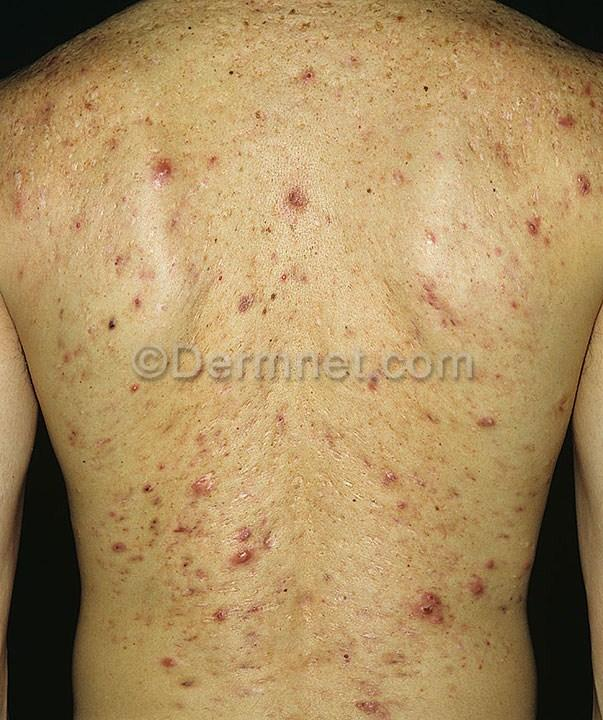Acne: (121, 487, 194, 574), (543, 101, 594, 221), (349, 649, 422, 720), (411, 273, 472, 334), (1, 165, 50, 240), (175, 575, 246, 626), (399, 589, 458, 630), (223, 529, 269, 577), (195, 469, 240, 518), (271, 177, 312, 221), (149, 153, 194, 192)
